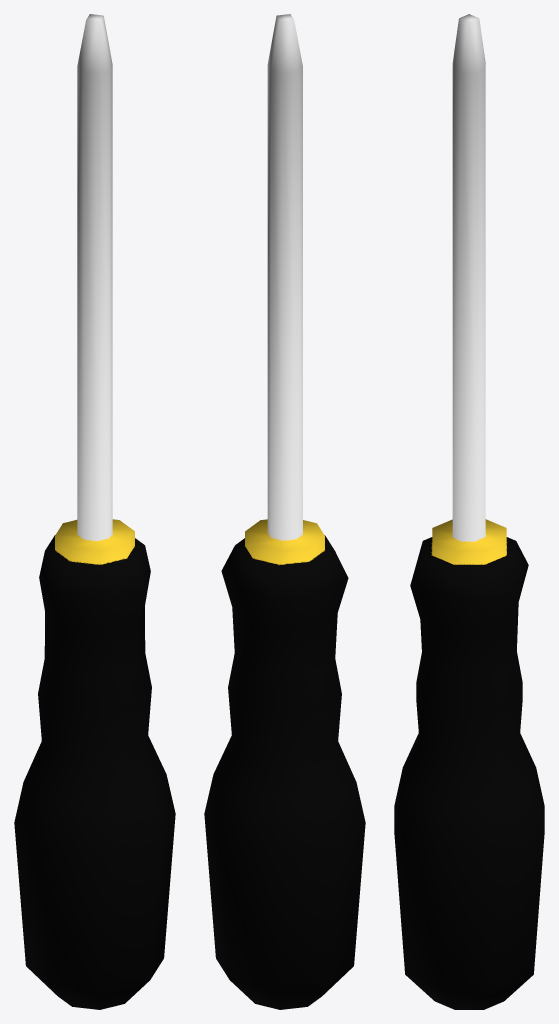
File: screwdriver.fbx
3 views of the same model, side by side, from view 1: azimuth 30°, elevation 25°; view 2: azimuth 150°, elevation 25°; view 3: azimuth 270°, elevation 25° (orthographic).
Visible parts, largest first — view 1: screwdriver; view 2: screwdriver; view 3: screwdriver.
Part boxes in pixels (box(x1,y1,x2,y2)): screwdriver: box(14, 14, 175, 1009); screwdriver: box(204, 14, 365, 1009); screwdriver: box(394, 14, 544, 1009).
Bounding box in the file's own units: 2.5 × 18.01 × 2.5.
